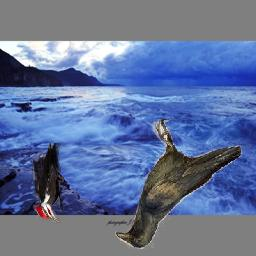Crow: (114, 119, 243, 249)
Woodpecker: (34, 143, 65, 223)
